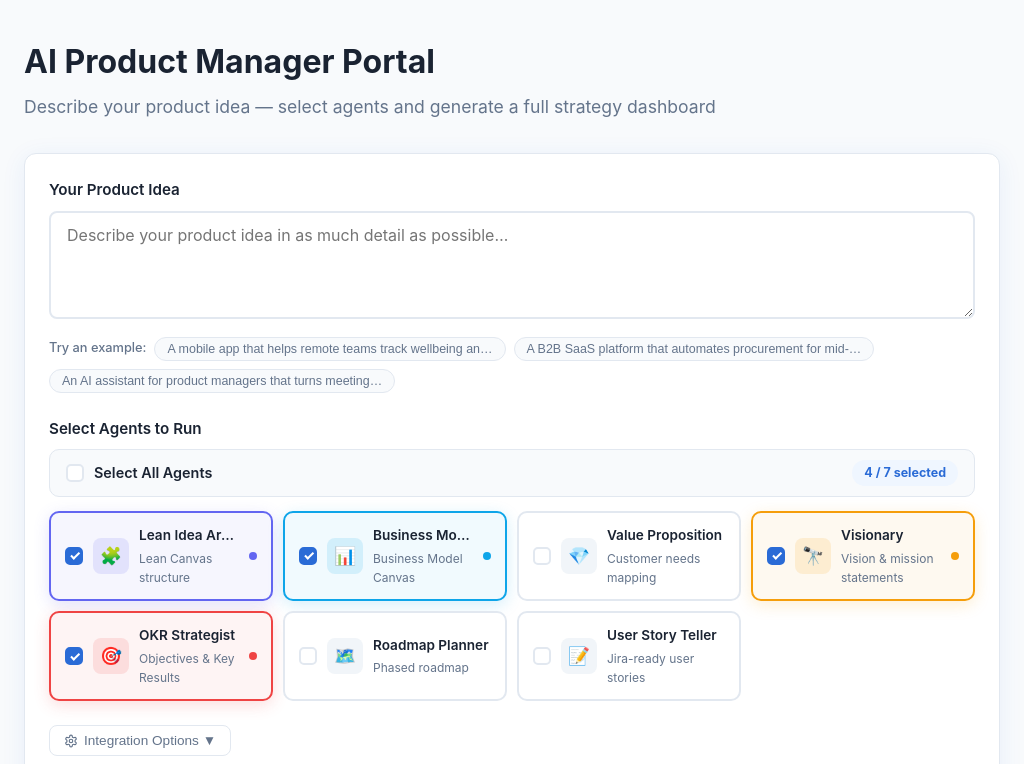
Portal page › shows error message on API failure
The width and height of the screenshot is (1024, 764).
Step 1. Type "A product idea" into the text box with placeholder "Describe your product idea in as much detail as possible…" → (512, 265), box top-left (49, 211), bottom-right (975, 319)
(page scrolled)
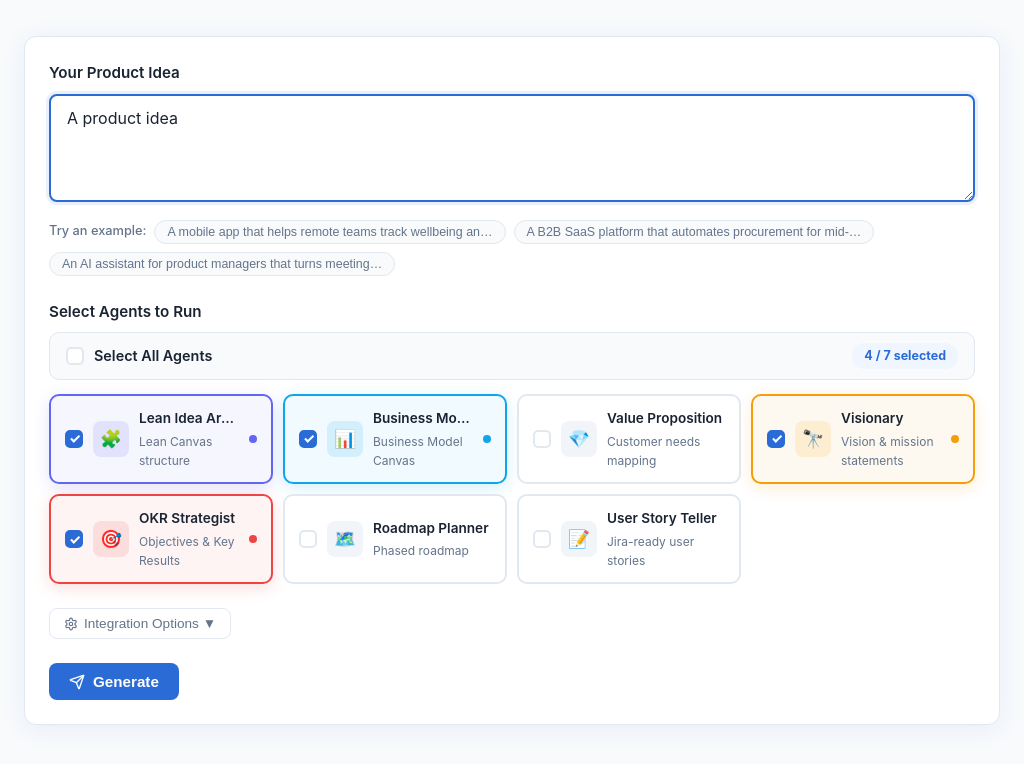
Step 2. Submit the form named "generate"
(page scrolled)
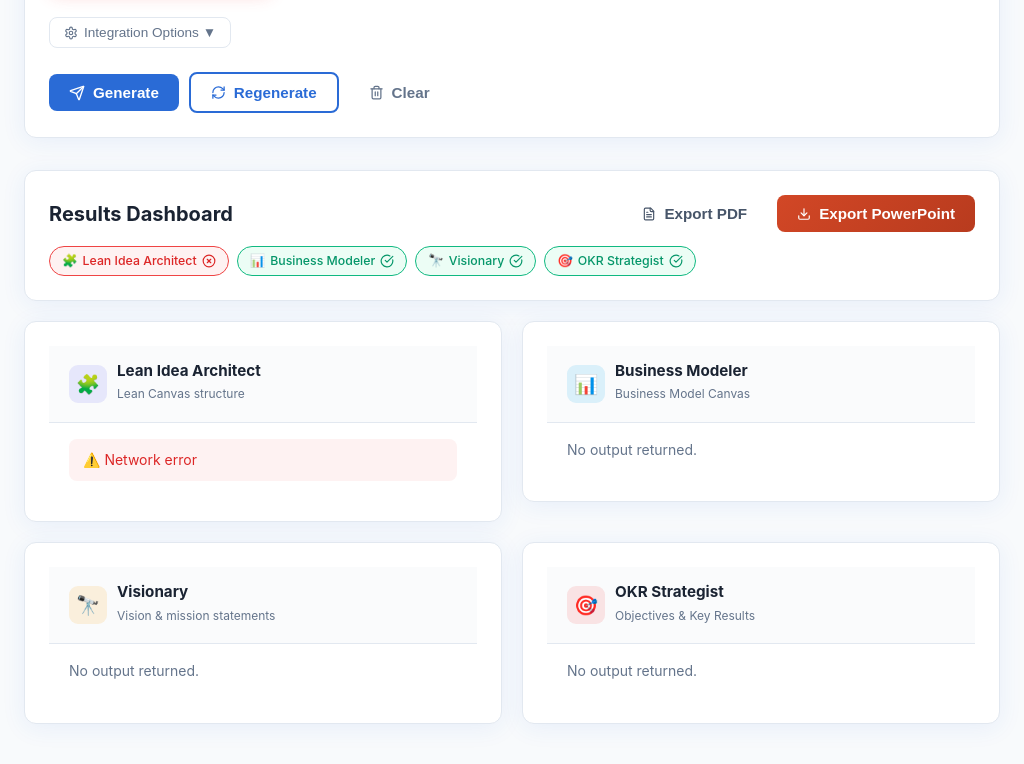
Expected: the text "⚠️ Network error" is shown, top-left (69, 439), bottom-right (457, 481)
